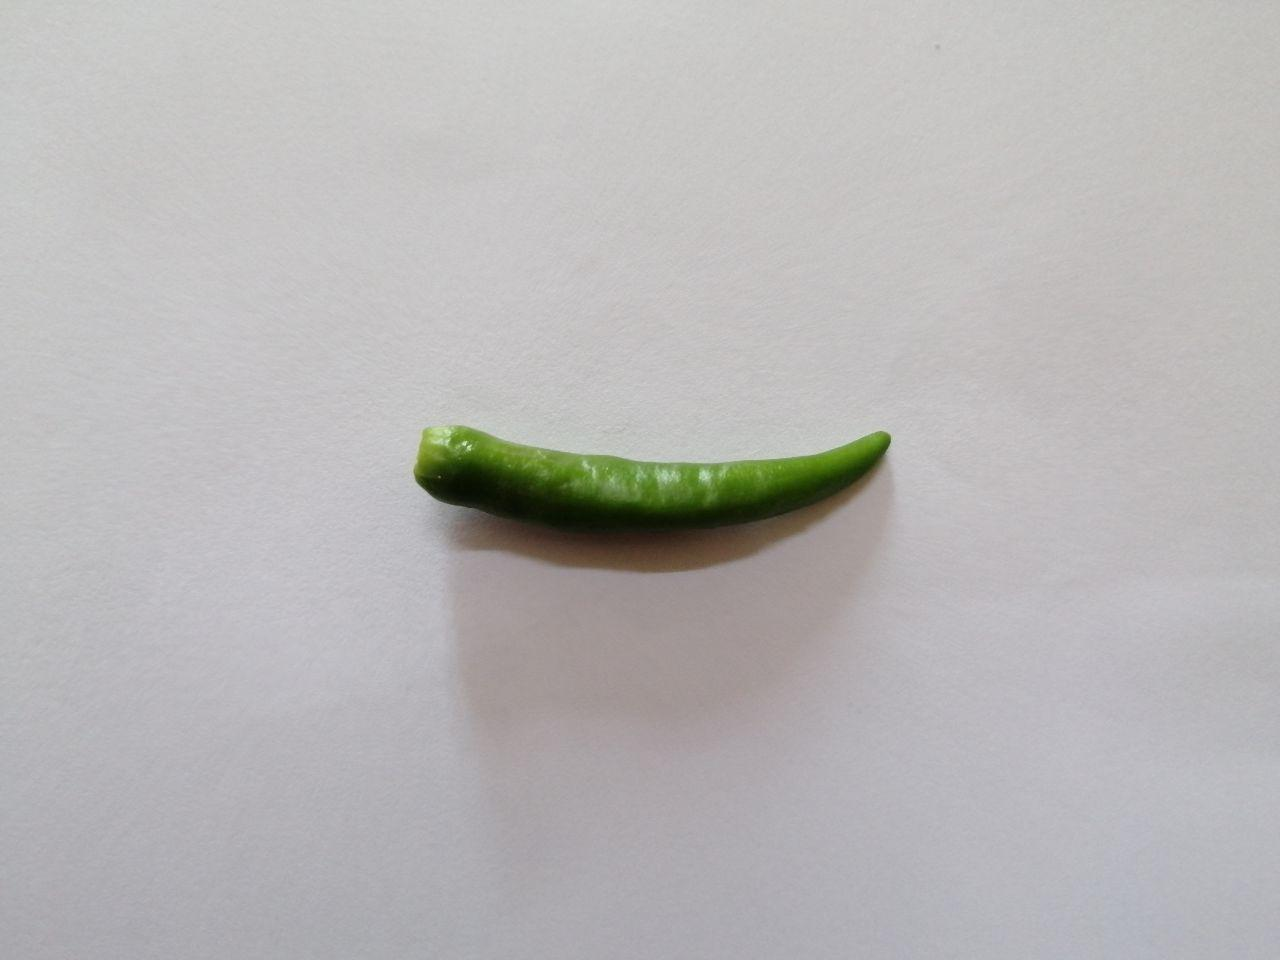lada hijau: (397, 409, 905, 558)
